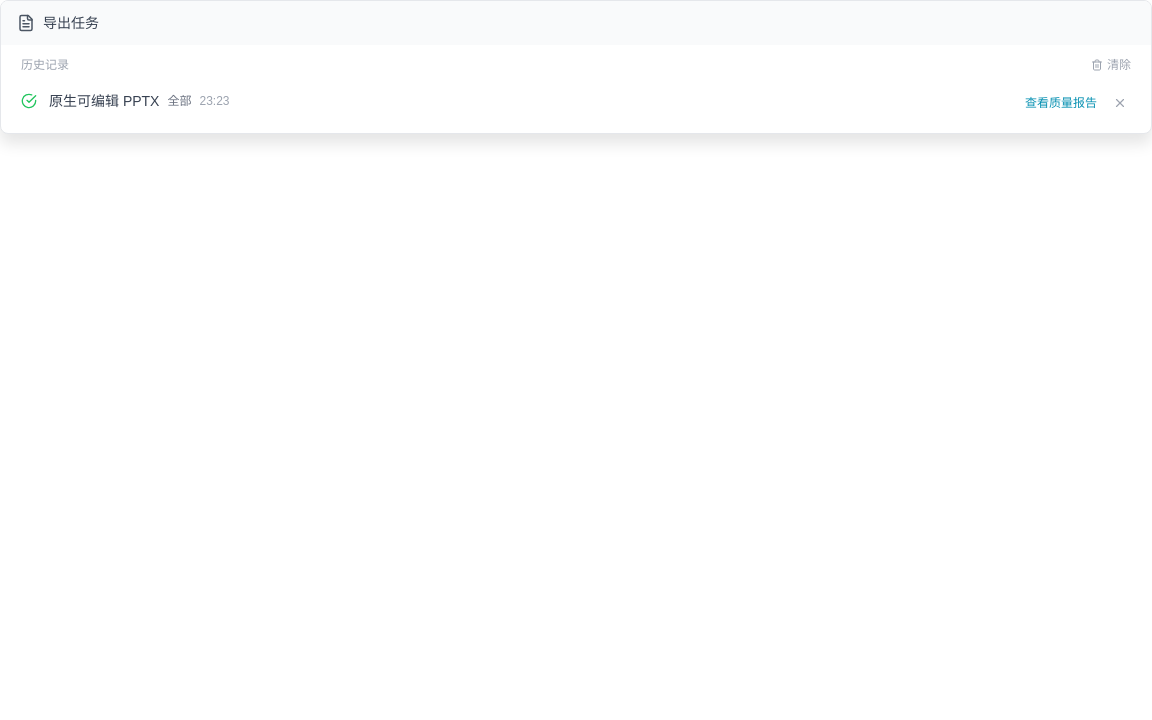
ExportTasksPanel pause controls › shows native PPTX quality report after completion
Check: the text "原生可编辑 PPTX" is shown, box [49, 91, 160, 111]
Click the button "查看质量报告": click(1061, 103) [1017, 91, 1105, 115]
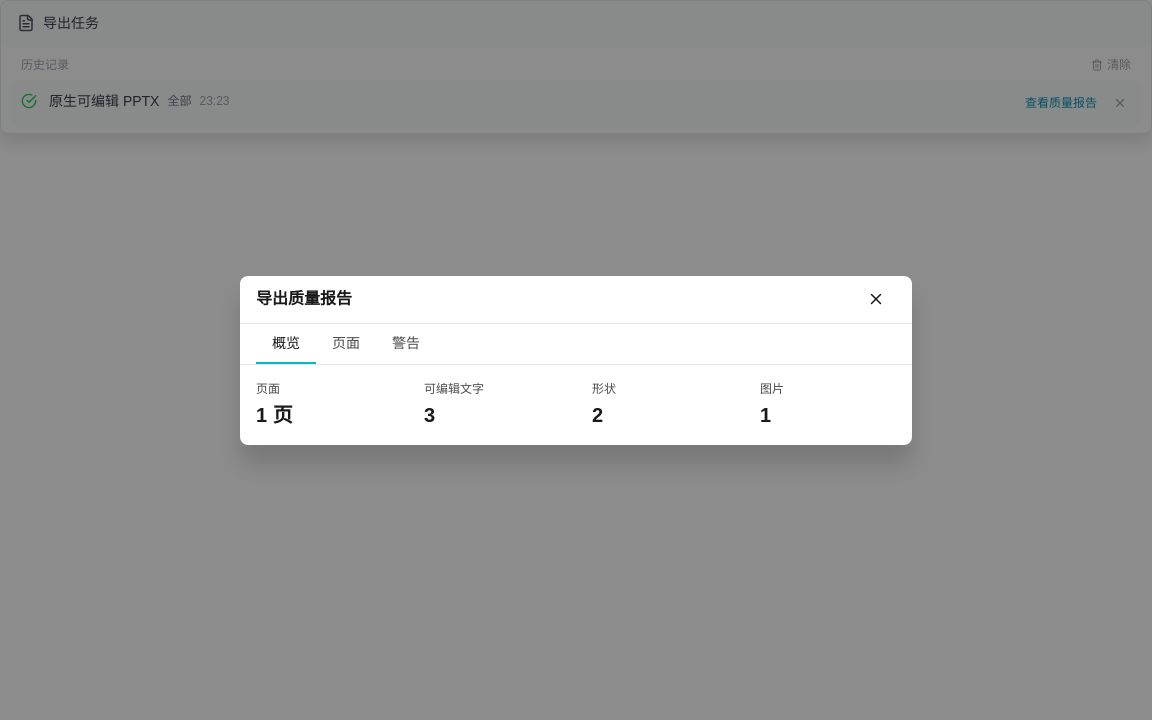
Check: the dialog "导出质量报告" shows "3", box [424, 404, 435, 426]
